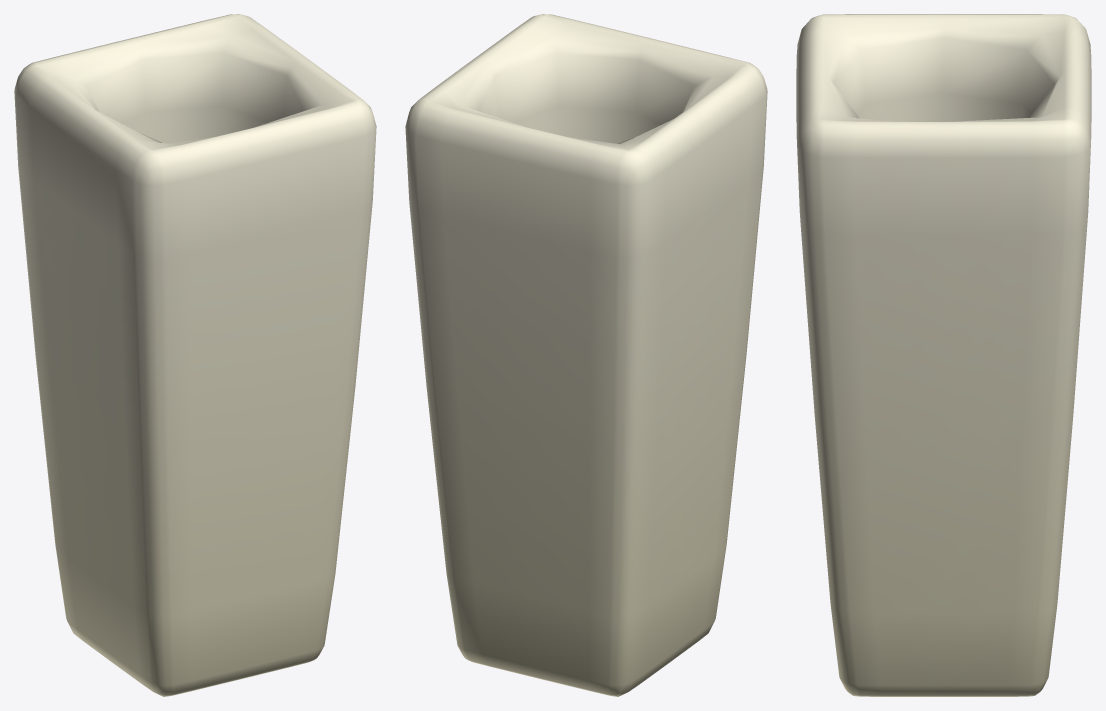
File: PlantPot_09.fbx
3 views of the same model, side by side, from view 1: azimuth 30°, elevation 25°; view 2: azimuth 150°, elevation 25°; view 3: azimuth 270°, elevation 25° (orthographic). The views are drawn at different scales.
Parts seen in each view (by area): view 1: PlantPot_09; view 2: PlantPot_09; view 3: PlantPot_09.
Part boxes in pixels (x1,y1,x2,y2): PlantPot_09: (14,14,376,696); PlantPot_09: (405,14,767,696); PlantPot_09: (796,14,1091,696).
Size of the model in its own units: 10.95 by 24.12 by 10.95.
